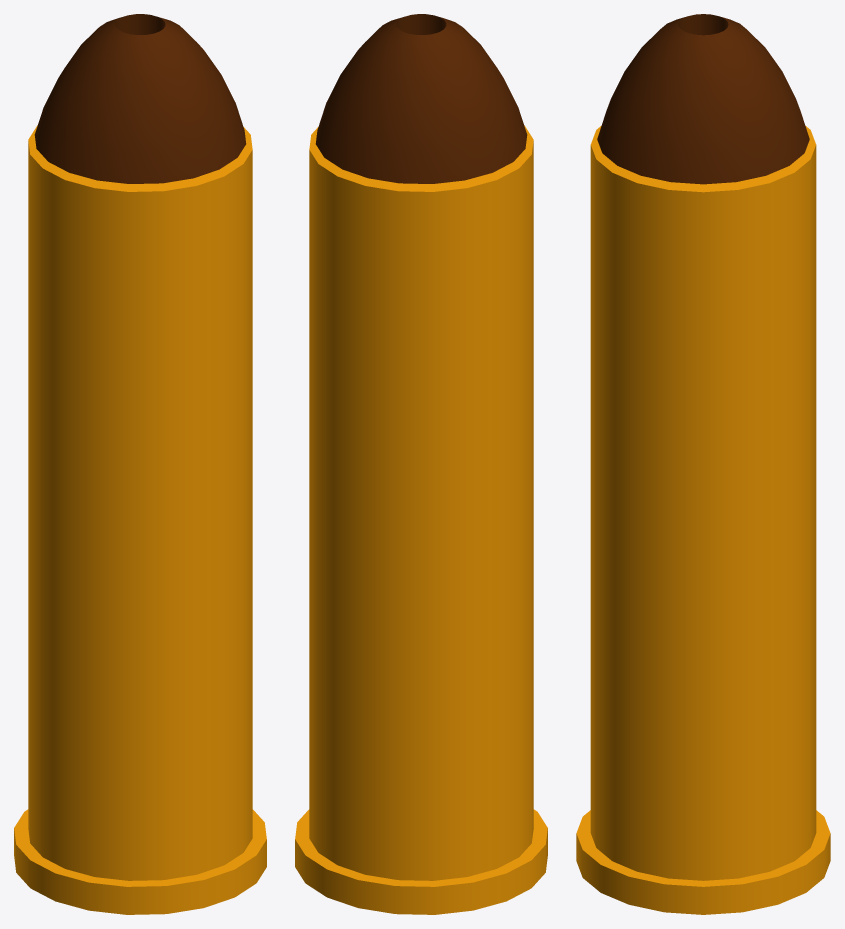
The model's file is 357Magnum.fbx.
3 renders of one model, left to right at view 1: azimuth 30°, elevation 25°; view 2: azimuth 150°, elevation 25°; view 3: azimuth 270°, elevation 25°, orthographic.
Visible parts, largest first — view 1: pasted__pasted__pasted__polySurface3, pasted__polySurface2; view 2: pasted__pasted__pasted__polySurface3, pasted__polySurface2; view 3: pasted__pasted__pasted__polySurface3, pasted__polySurface2.
Boxes of the visible parts, bbox=[...] form: pasted__pasted__pasted__polySurface3: bbox=[14, 125, 266, 914]; pasted__polySurface2: bbox=[34, 14, 246, 183]; pasted__pasted__pasted__polySurface3: bbox=[295, 125, 547, 914]; pasted__polySurface2: bbox=[315, 14, 527, 183]; pasted__pasted__pasted__polySurface3: bbox=[576, 126, 830, 914]; pasted__polySurface2: bbox=[597, 14, 809, 184].
Size of the model in its own units: 2.25 by 8.19 by 2.25.
